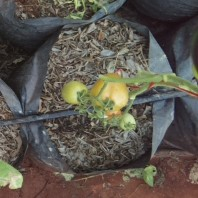tomato: (87, 71, 136, 114), (56, 77, 90, 108), (118, 112, 138, 132)
